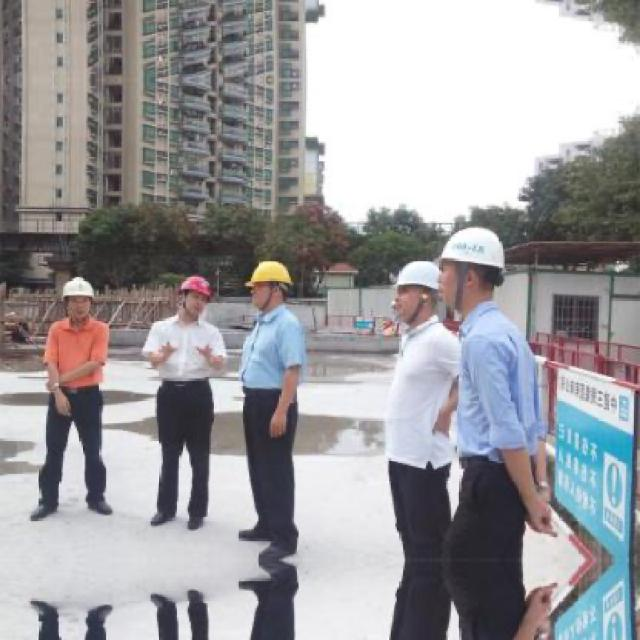con casco: (423, 218, 514, 321), (387, 243, 474, 346), (26, 262, 124, 338), (227, 241, 307, 315), (152, 268, 214, 345)
